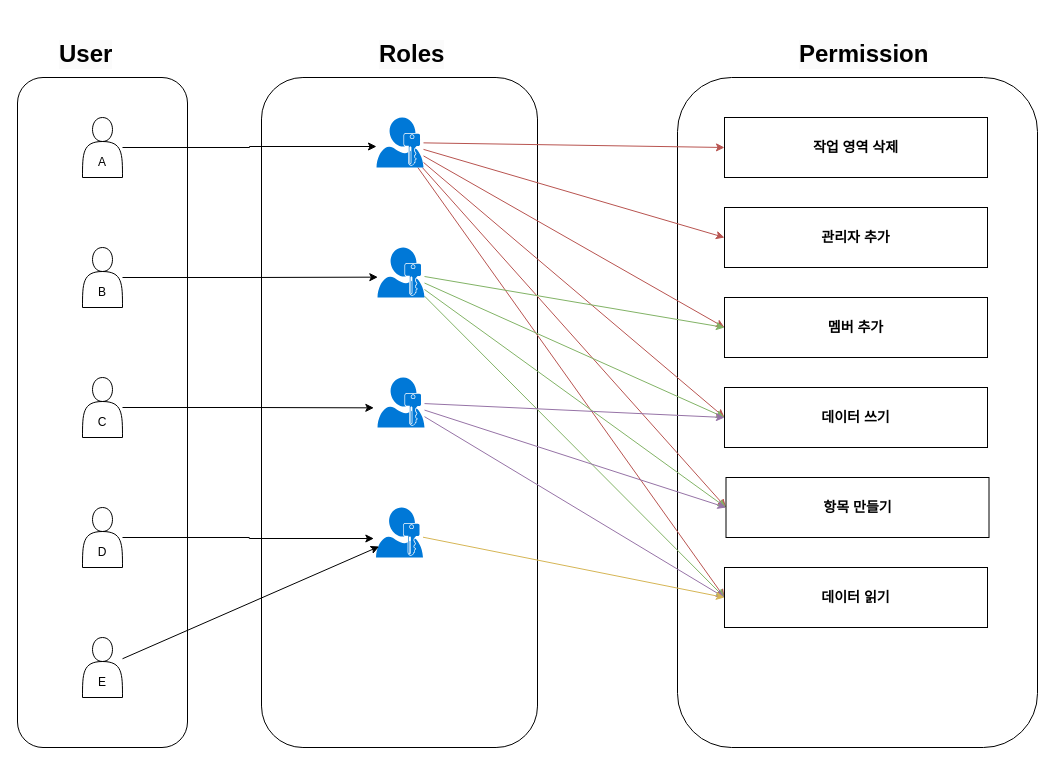
This 1055x765 diagram has some shape labels left out. The shapes that lost their labels are listed below. From the top down, each one's centre as x and y in pixels, then its label:
At (399,142): "Admin".
At (400,272): "Member".
At (400,402): "Contributor".
At (399,532): "Viewer".
